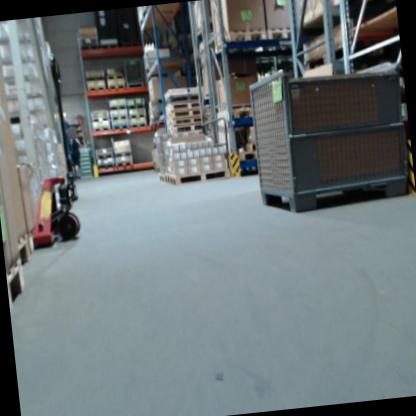pallet: (213, 27, 268, 56), (302, 40, 350, 73), (4, 256, 26, 312), (169, 168, 231, 187), (15, 232, 30, 271), (266, 26, 293, 43), (171, 119, 204, 132), (163, 89, 199, 100), (231, 104, 255, 120), (168, 96, 200, 107), (169, 109, 201, 119), (170, 115, 203, 123), (169, 104, 200, 112), (237, 151, 259, 160), (121, 40, 141, 48), (100, 42, 119, 50), (79, 37, 98, 44), (80, 43, 99, 50), (86, 75, 105, 82), (105, 73, 124, 80), (87, 85, 106, 92), (128, 112, 146, 119), (111, 123, 129, 130), (97, 162, 115, 169), (106, 83, 126, 89), (130, 121, 147, 128), (90, 116, 109, 122), (92, 126, 111, 132), (115, 160, 134, 166), (109, 104, 127, 110), (127, 103, 145, 109), (110, 114, 128, 120), (95, 153, 113, 159), (114, 151, 132, 157), (163, 174, 171, 185), (158, 174, 165, 182)
pallet_truck: (10, 50, 90, 249)
stillage: (245, 52, 413, 213), (118, 56, 145, 90)
